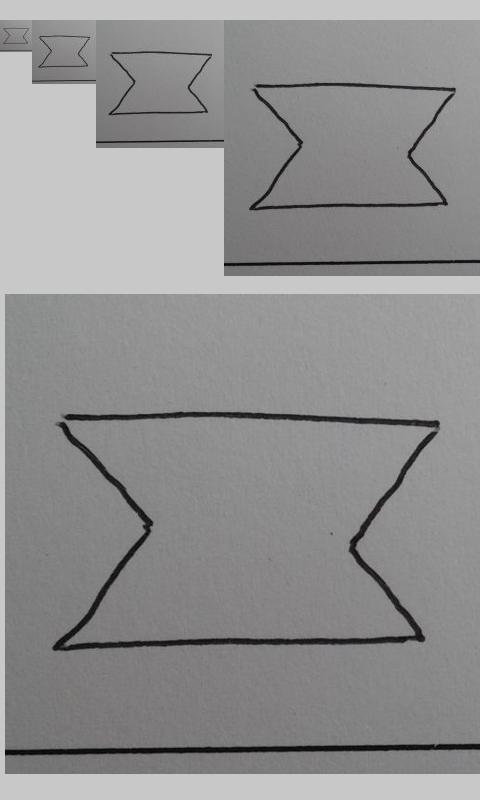edit_text: (50, 409, 441, 652), (250, 82, 458, 210), (109, 50, 212, 116), (38, 35, 90, 68), (3, 27, 29, 45)
